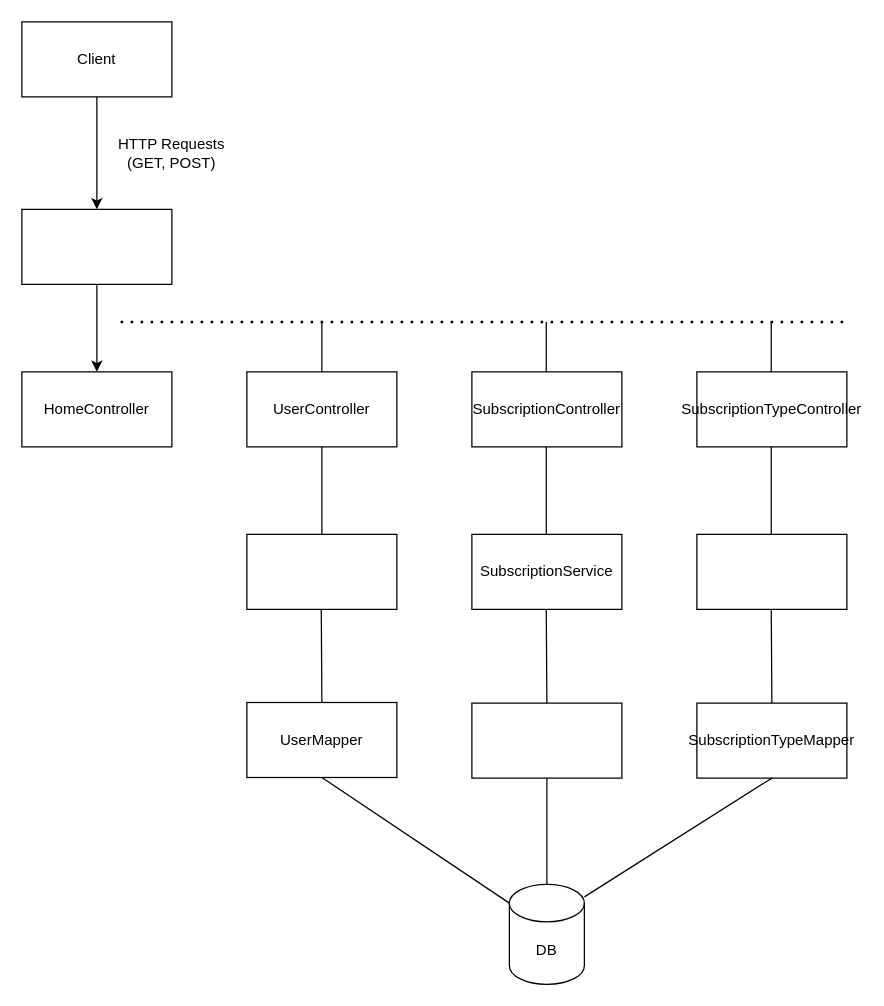
Some shapes in this 884 by 1006 pixel diagram are drawn without their labels. The box of each missing label's shape, as (x1, y1, x2, y2) in pixels:
Spring Boot Application: (21, 208, 172, 284)
SubscriptionMapper: (471, 702, 622, 778)
SubscriptionTypeService: (696, 533, 847, 609)
UserService: (246, 533, 397, 609)
